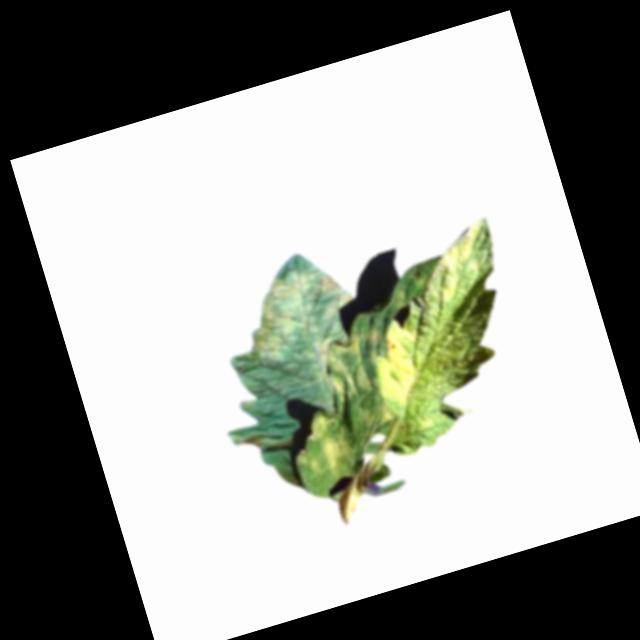Leaf_Mold: (229, 245, 368, 374), (361, 318, 434, 412), (419, 226, 495, 309), (292, 404, 356, 476), (317, 331, 377, 406)
